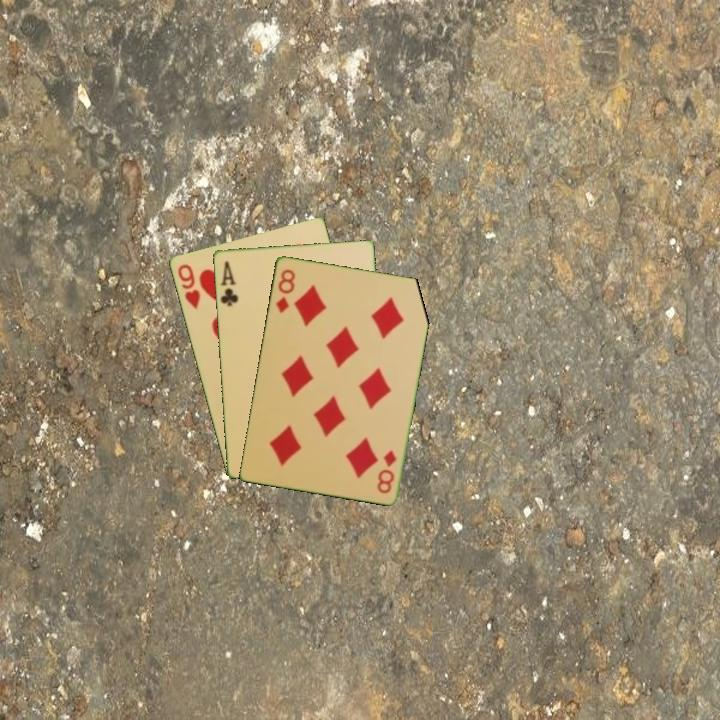8d: (272, 265, 298, 316), (374, 446, 399, 496)
9h: (174, 260, 203, 312)
Ac: (216, 258, 241, 309)
